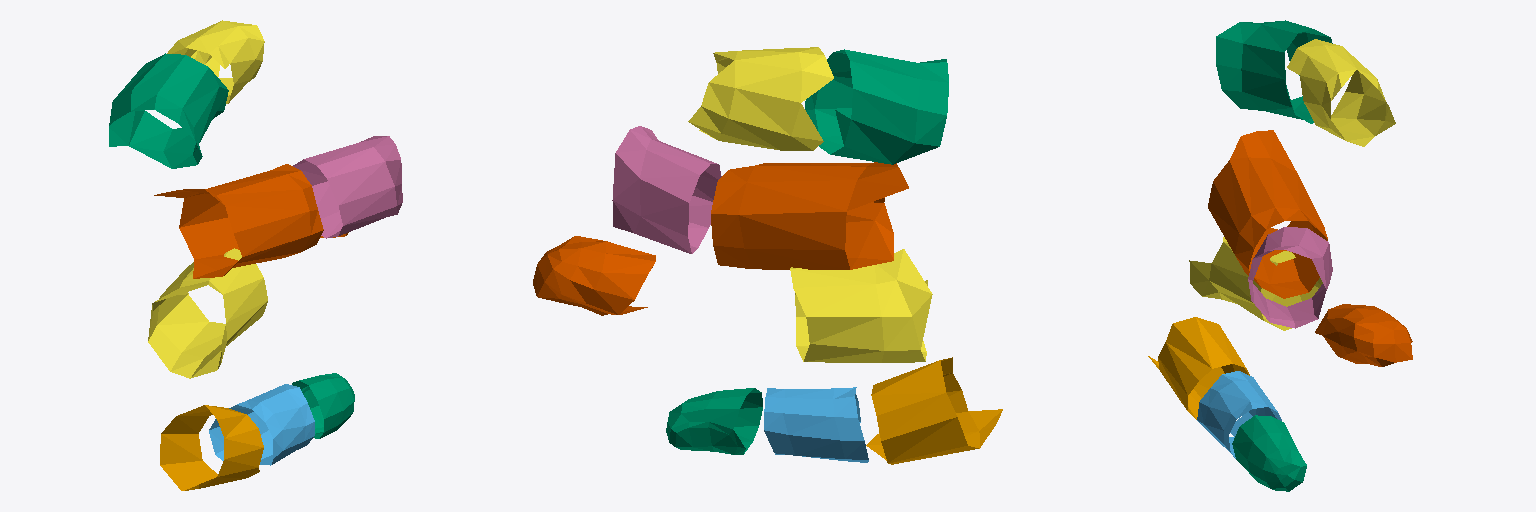
URDF robot description (mano_hand):
<?xml version='1.0' encoding='utf-8'?>
<robot name="mano_hand">
  <link name="root">
    <mass value="0.01"/>
    <inertial>
      <origin xyz="0 0 0" rpy="0 0 0"/>
      <mass value="0.01"/>
      <inertia ixx="1E-06" ixy="0" ixz="0" iyy="1E-06" iyz="0" izz="1E-06"/>
    </inertial>
  </link>
  <link name="hand">
    <inertial>
      <origin xyz="0 0 0" rpy="0 0 0" />
      <mass value="0.01" />
      <inertia ixx="1e-06" ixy="0" ixz="0" iyy="1e-06" iyz="0" izz="1e-06" />
    </inertial>
    <visual>
      <origin xyz="0 0 0" rpy="0 0 0" />
      <geometry>
        <mesh filename="meshes\hand.stl"  />
      </geometry>
    </visual>
    <collision>
      <origin xyz="0 0 0" rpy="0 0 0" />
      <geometry>
        <mesh filename="meshes\hand.stl"  />
      </geometry>
    </collision>
  </link>
  <link name="link_joint_1">
    <inertial>
      <origin xyz="0 0 0" rpy="0 0 0" />
      <mass value="0.01" />
      <inertia ixx="1e-06" ixy="0" ixz="0" iyy="1e-06" iyz="0" izz="1e-06" />
    </inertial>
    <visual>
      <geometry>
        <mesh filename="meshes\link_joint_1.stl"  />
      </geometry>
    </visual>
    <collision>
      <origin xyz="0 0 0" rpy="0 0 0" />
      <geometry>
        <mesh filename="meshes\link_joint_1.stl"  />
      </geometry>
    </collision>
  </link>
  <link name="link_joint_2">
    <inertial>
      <origin xyz="0 0 0" rpy="0 0 0" />
      <mass value="0.01" />
      <inertia ixx="1e-06" ixy="0" ixz="0" iyy="1e-06" iyz="0" izz="1e-06" />
    </inertial>
    <visual>
      <geometry>
        <mesh filename="meshes\link_joint_2.stl"  />
      </geometry>
    </visual>
    <collision>
      <origin xyz="0 0 0" rpy="0 0 0" />
      <geometry>
        <mesh filename="meshes\link_joint_2.stl"  />
      </geometry>
    </collision>
  </link>
  <link name="link_joint_3">
    <inertial>
      <origin xyz="0 0 0" rpy="0 0 0" />
      <mass value="0.01" />
      <inertia ixx="1e-06" ixy="0" ixz="0" iyy="1e-06" iyz="0" izz="1e-06" />
    </inertial>
    <visual>
      <geometry>
        <mesh filename="meshes\link_joint_3.stl"  />
      </geometry>
    </visual>
    <collision>
      <origin xyz="0 0 0" rpy="0 0 0" />
      <geometry>
        <mesh filename="meshes\link_joint_3.stl"  />
      </geometry>
    </collision>
  </link>
  <link name="link_joint_4">
    <inertial>
      <origin xyz="0 0 0" rpy="0 0 0" />
      <mass value="0.01" />
      <inertia ixx="1e-06" ixy="0" ixz="0" iyy="1e-06" iyz="0" izz="1e-06" />
    </inertial>
    <visual>
      <geometry>
        <mesh filename="meshes\link_joint_4.stl"  />
      </geometry>
    </visual>
    <collision>
      <origin xyz="0 0 0" rpy="0 0 0" />
      <geometry>
        <mesh filename="meshes\link_joint_4.stl"  />
      </geometry>
    </collision>
  </link>
  <link name="link_joint_5">
    <inertial>
      <origin xyz="0 0 0" rpy="0 0 0" />
      <mass value="0.01" />
      <inertia ixx="1e-06" ixy="0" ixz="0" iyy="1e-06" iyz="0" izz="1e-06" />
    </inertial>
    <visual>
      <geometry>
        <mesh filename="meshes\link_joint_5.stl"  />
      </geometry>
    </visual>
    <collision>
      <origin xyz="0 0 0" rpy="0 0 0" />
      <geometry>
        <mesh filename="meshes\link_joint_5.stl"  />
      </geometry>
    </collision>
  </link>
  <link name="link_joint_6">
    <inertial>
      <origin xyz="0 0 0" rpy="0 0 0" />
      <mass value="0.01" />
      <inertia ixx="1e-06" ixy="0" ixz="0" iyy="1e-06" iyz="0" izz="1e-06" />
    </inertial>
    <visual>
      <geometry>
        <mesh filename="meshes\link_joint_6.stl"  />
      </geometry>
    </visual>
    <collision>
      <origin xyz="0 0 0" rpy="0 0 0" />
      <geometry>
        <mesh filename="meshes\link_joint_6.stl"  />
      </geometry>
    </collision>
  </link>
  <link name="link_joint_7">
    <inertial>
      <origin xyz="0 0 0" rpy="0 0 0" />
      <mass value="0.01" />
      <inertia ixx="1e-06" ixy="0" ixz="0" iyy="1e-06" iyz="0" izz="1e-06" />
    </inertial>
    <visual>
      <geometry>
        <mesh filename="meshes\link_joint_7.stl"  />
      </geometry>
    </visual>
    <collision>
      <origin xyz="0 0 0" rpy="0 0 0" />
      <geometry>
        <mesh filename="meshes\link_joint_7.stl"  />
      </geometry>
    </collision>
  </link>
  <link name="link_joint_8">
    <inertial>
      <origin xyz="0 0 0" rpy="0 0 0" />
      <mass value="0.01" />
      <inertia ixx="1e-06" ixy="0" ixz="0" iyy="1e-06" iyz="0" izz="1e-06" />
    </inertial>
    <visual>
      <geometry>
        <mesh filename="meshes\link_joint_8.stl"  />
      </geometry>
    </visual>
    <collision>
      <origin xyz="0 0 0" rpy="0 0 0" />
      <geometry>
        <mesh filename="meshes\link_joint_8.stl"  />
      </geometry>
    </collision>
  </link>
  <link name="link_joint_9">
    <inertial>
      <origin xyz="0 0 0" rpy="0 0 0" />
      <mass value="0.01" />
      <inertia ixx="1e-06" ixy="0" ixz="0" iyy="1e-06" iyz="0" izz="1e-06" />
    </inertial>
    <visual>
      <geometry>
        <mesh filename="meshes\link_joint_9.stl"  />
      </geometry>
    </visual>
    <collision>
      <origin xyz="0 0 0" rpy="0 0 0" />
      <geometry>
        <mesh filename="meshes\link_joint_9.stl"  />
      </geometry>
    </collision>
  </link>
  <link name="link_joint_10">
    <inertial>
      <origin xyz="0 0 0" rpy="0 0 0" />
      <mass value="0.01" />
      <inertia ixx="1e-06" ixy="0" ixz="0" iyy="1e-06" iyz="0" izz="1e-06" />
    </inertial>
    <visual>
      <geometry>
        <mesh filename="meshes\link_joint_10.stl"  />
      </geometry>
    </visual>
    <collision>
      <origin xyz="0 0 0" rpy="0 0 0" />
      <geometry>
        <mesh filename="meshes\link_joint_10.stl"  />
      </geometry>
    </collision>
  </link>
  <link name="link_joint_11">
    <inertial>
      <origin xyz="0 0 0" rpy="0 0 0" />
      <mass value="0.01" />
      <inertia ixx="1e-06" ixy="0" ixz="0" iyy="1e-06" iyz="0" izz="1e-06" />
    </inertial>
    <visual>
      <geometry>
        <mesh filename="meshes\link_joint_11.stl"  />
      </geometry>
    </visual>
    <collision>
      <origin xyz="0 0 0" rpy="0 0 0" />
      <geometry>
        <mesh filename="meshes\link_joint_11.stl"  />
      </geometry>
    </collision>
  </link>
  <link name="link_joint_12">
    <inertial>
      <origin xyz="0 0 0" rpy="0 0 0" />
      <mass value="0.01" />
      <inertia ixx="1e-06" ixy="0" ixz="0" iyy="1e-06" iyz="0" izz="1e-06" />
    </inertial>
    <visual>
      <geometry>
        <mesh filename="meshes\link_joint_12.stl"  />
      </geometry>
    </visual>
    <collision>
      <origin xyz="0 0 0" rpy="0 0 0" />
      <geometry>
        <mesh filename="meshes\link_joint_12.stl"  />
      </geometry>
    </collision>
  </link>
  <link name="link_joint_13">
    <inertial>
      <origin xyz="0 0 0" rpy="0 0 0" />
      <mass value="0.01" />
      <inertia ixx="1e-06" ixy="0" ixz="0" iyy="1e-06" iyz="0" izz="1e-06" />
    </inertial>
    <visual>
      <geometry>
        <mesh filename="meshes\link_joint_13.stl"  />
      </geometry>
    </visual>
    <collision>
      <origin xyz="0 0 0" rpy="0 0 0" />
      <geometry>
        <mesh filename="meshes\link_joint_13.stl"  />
      </geometry>
    </collision>
  </link>
  <link name="link_joint_14">
    <inertial>
      <origin xyz="0 0 0" rpy="0 0 0" />
      <mass value="0.01" />
      <inertia ixx="1e-06" ixy="0" ixz="0" iyy="1e-06" iyz="0" izz="1e-06" />
    </inertial>
    <visual>
      <geometry>
        <mesh filename="meshes\link_joint_14.stl"  />
      </geometry>
    </visual>
    <collision>
      <origin xyz="0 0 0" rpy="0 0 0" />
      <geometry>
        <mesh filename="meshes\link_joint_14.stl"  />
      </geometry>
    </collision>
  </link>
  <link name="link_joint_15">
    <inertial>
      <origin xyz="0 0 0" rpy="0 0 0" />
      <mass value="0.01" />
      <inertia ixx="1e-06" ixy="0" ixz="0" iyy="1e-06" iyz="0" izz="1e-06" />
    </inertial>
    <visual>
      <geometry>
        <mesh filename="meshes\link_joint_15.stl"  />
      </geometry>
    </visual>
    <collision>
      <origin xyz="0 0 0" rpy="0 0 0" />
      <geometry>
        <mesh filename="meshes\link_joint_15.stl"  />
      </geometry>
    </collision>
  </link>
  <joint name="joint_hand_to_link_joint_0" type="fixed">
    <parent link="root" />
    <child link="hand" />
    <origin xyz="0 0 0" rpy="0 0 0" />
    <axis xyz="0 0 1" />
  </joint>
  <joint name="joint_hand_to_link_joint_1" type="revolute">
    <parent link="hand" />
    <child link="link_joint_1" />
    <origin xyz="0 0 0" rpy="0 0 0" />
    <axis xyz="0 0 1" />

  <limit lower="-0.1" upper="0.1" effort="50" velocity="0.1" /></joint>
  <joint name="joint_hand_to_link_joint_2" type="revolute">
    <parent link="link_joint_1" />
    <child link="link_joint_2" />
    <origin xyz="0 0 0" rpy="0 0 0" />
    <axis xyz="0 0 1" />
  <limit lower="-0.1" upper="0.1" effort="50" velocity="0.1" /></joint>
  <joint name="joint_hand_to_link_joint_3" type="revolute">
    <parent link="link_joint_2" />
    <child link="link_joint_3" />
    <origin xyz="0 0 0" rpy="0 0 0" />
    <axis xyz="0 0 1" />
  <limit lower="-0.1" upper="0.1" effort="50" velocity="0.1" /></joint>
  <joint name="joint_hand_to_link_joint_4" type="revolute">
    <parent link="hand" />
    <child link="link_joint_4" />
    <origin xyz="0 0 0" rpy="0 0 0" />
    <axis xyz="0 0 1" />
  <limit lower="-0.1" upper="0.1" effort="50" velocity="0.1" /></joint>
  <joint name="joint_hand_to_link_joint_5" type="revolute">
    <parent link="link_joint_4" />
    <child link="link_joint_5" />
    <origin xyz="0 0 0" rpy="0 0 0" />
    <axis xyz="0 0 1" />
  <limit lower="-0.1" upper="0.1" effort="50" velocity="0.1" /></joint>
  <joint name="joint_hand_to_link_joint_6" type="revolute">
    <parent link="link_joint_5" />
    <child link="link_joint_6" />
    <origin xyz="0 0 0" rpy="0 0 0" />
    <axis xyz="0 0 1" />
  <limit lower="-0.1" upper="0.1" effort="50" velocity="0.1" /></joint>
  <joint name="joint_hand_to_link_joint_7" type="revolute">
    <parent link="hand" />
    <child link="link_joint_7" />
    <origin xyz="0 0 0" rpy="0 0 0" />
    <axis xyz="0 0 1" />
  <limit lower="-0.1" upper="0.1" effort="50" velocity="0.1" /></joint>
  <joint name="joint_hand_to_link_joint_8" type="revolute">
    <parent link="link_joint_7" />
    <child link="link_joint_8" />
    <origin xyz="0 0 0" rpy="0 0 0" />
    <axis xyz="0 0 1" />
  <limit lower="-0.1" upper="0.1" effort="50" velocity="0.1" /></joint>
  <joint name="joint_hand_to_link_joint_9" type="revolute">
    <parent link="link_joint_8" />
    <child link="link_joint_9" />
    <origin xyz="0 0 0" rpy="0 0 0" />
    <axis xyz="0 0 1" />
  <limit lower="-0.1" upper="0.1" effort="50" velocity="0.1" /></joint>
  <joint name="joint_hand_to_link_joint_10" type="revolute">
    <parent link="hand" />
    <child link="link_joint_10" />
    <origin xyz="0 0 0" rpy="0 0 0" />
    <axis xyz="0 0 1" />
  <limit lower="-0.1" upper="0.1" effort="50" velocity="0.1" /></joint>
  <joint name="joint_hand_to_link_joint_11" type="revolute">
    <parent link="link_joint_10" />
    <child link="link_joint_11" />
    <origin xyz="0 0 0" rpy="0 0 0" />
    <axis xyz="0 0 1" />
  <limit lower="-0.1" upper="0.1" effort="50" velocity="0.1" /></joint>
  <joint name="joint_hand_to_link_joint_12" type="revolute">
    <parent link="link_joint_11" />
    <child link="link_joint_12" />
    <origin xyz="0 0 0" rpy="0 0 0" />
    <axis xyz="0 0 1" />
  <limit lower="-0.1" upper="0.1" effort="50" velocity="0.1" /></joint>
  <joint name="joint_hand_to_link_joint_13" type="revolute">
    <parent link="hand" />
    <child link="link_joint_13" />
    <origin xyz="0 0 0" rpy="0 0 0" />
    <axis xyz="0 0 1" />
  <limit lower="-0.1" upper="0.1" effort="50" velocity="0.1" /></joint>
  <joint name="joint_hand_to_link_joint_14" type="revolute">
    <parent link="link_joint_13" />
    <child link="link_joint_14" />
    <origin xyz="0 0 0" rpy="0 0 0" />
    <axis xyz="0 0 1" />
  <limit lower="-0.1" upper="0.1" effort="50" velocity="0.1" /></joint>
  <joint name="joint_hand_to_link_joint_15" type="revolute">
    <parent link="link_joint_14" />
    <child link="link_joint_15" />
    <origin xyz="0 0 0" rpy="0 0 0" />
    <axis xyz="0 0 1" />
  <limit lower="-0.1" upper="0.1" effort="50" velocity="0.1" /></joint>
</robot>

--- Render facts (derived) ---
Views: 3 orthographic renders of the robot side by side, from view 1: azimuth 30°, elevation 25°; view 2: azimuth 150°, elevation 25°; view 3: azimuth 270°, elevation 25°.
Model mano_hand with 17 links and 16 joints (15 revolute, 1 fixed), rooted at root, posed all joints at 0.
Visible links, largest first — view 1: link_joint_4, link_joint_1, link_joint_10, link_joint_5, link_joint_7, link_joint_8, link_joint_2, link_joint_9; view 2: link_joint_4, link_joint_1, link_joint_10, link_joint_2, link_joint_5, link_joint_7, link_joint_12, link_joint_8, link_joint_9; view 3: link_joint_4, link_joint_1, link_joint_2, link_joint_7, link_joint_12, link_joint_9, link_joint_5, link_joint_8, link_joint_10.
Link boxes in pixels (left/top/right/bottom): link_joint_4: left=154, top=164, right=323, bottom=278; link_joint_1: left=109, top=53, right=228, bottom=168; link_joint_10: left=148, top=248, right=267, bottom=378; link_joint_5: left=293, top=136, right=402, bottom=238; link_joint_7: left=160, top=405, right=263, bottom=490; link_joint_8: left=209, top=384, right=314, bottom=465; link_joint_2: left=167, top=20, right=264, bottom=103; link_joint_9: left=292, top=373, right=354, bottom=438; link_joint_4: left=711, top=162, right=908, bottom=269; link_joint_1: left=805, top=49, right=948, bottom=164; link_joint_10: left=790, top=249, right=932, bottom=362; link_joint_2: left=688, top=47, right=833, bottom=150; link_joint_5: left=612, top=126, right=721, bottom=253; link_joint_7: left=866, top=357, right=1002, bottom=464; link_joint_12: left=533, top=236, right=655, bottom=315; link_joint_8: left=764, top=387, right=868, bottom=462; link_joint_9: left=666, top=388, right=762, bottom=454; link_joint_4: left=1208, top=130, right=1327, bottom=298; link_joint_1: left=1216, top=20, right=1332, bottom=123; link_joint_2: left=1287, top=39, right=1395, bottom=146; link_joint_7: left=1148, top=317, right=1249, bottom=419; link_joint_12: left=1315, top=304, right=1412, bottom=366; link_joint_9: left=1232, top=415, right=1306, bottom=491; link_joint_5: left=1248, top=227, right=1332, bottom=328; link_joint_8: left=1197, top=371, right=1281, bottom=458; link_joint_10: left=1189, top=237, right=1322, bottom=330.
Bounding box of the posed robot: 0.0795 × 0.0596 × 0.0966 m (x, y, z).
9 mesh visuals loaded from 16 distinct referenced files (9 binary STL); not drawn: 7 (reference not matched to a file when rendering).
